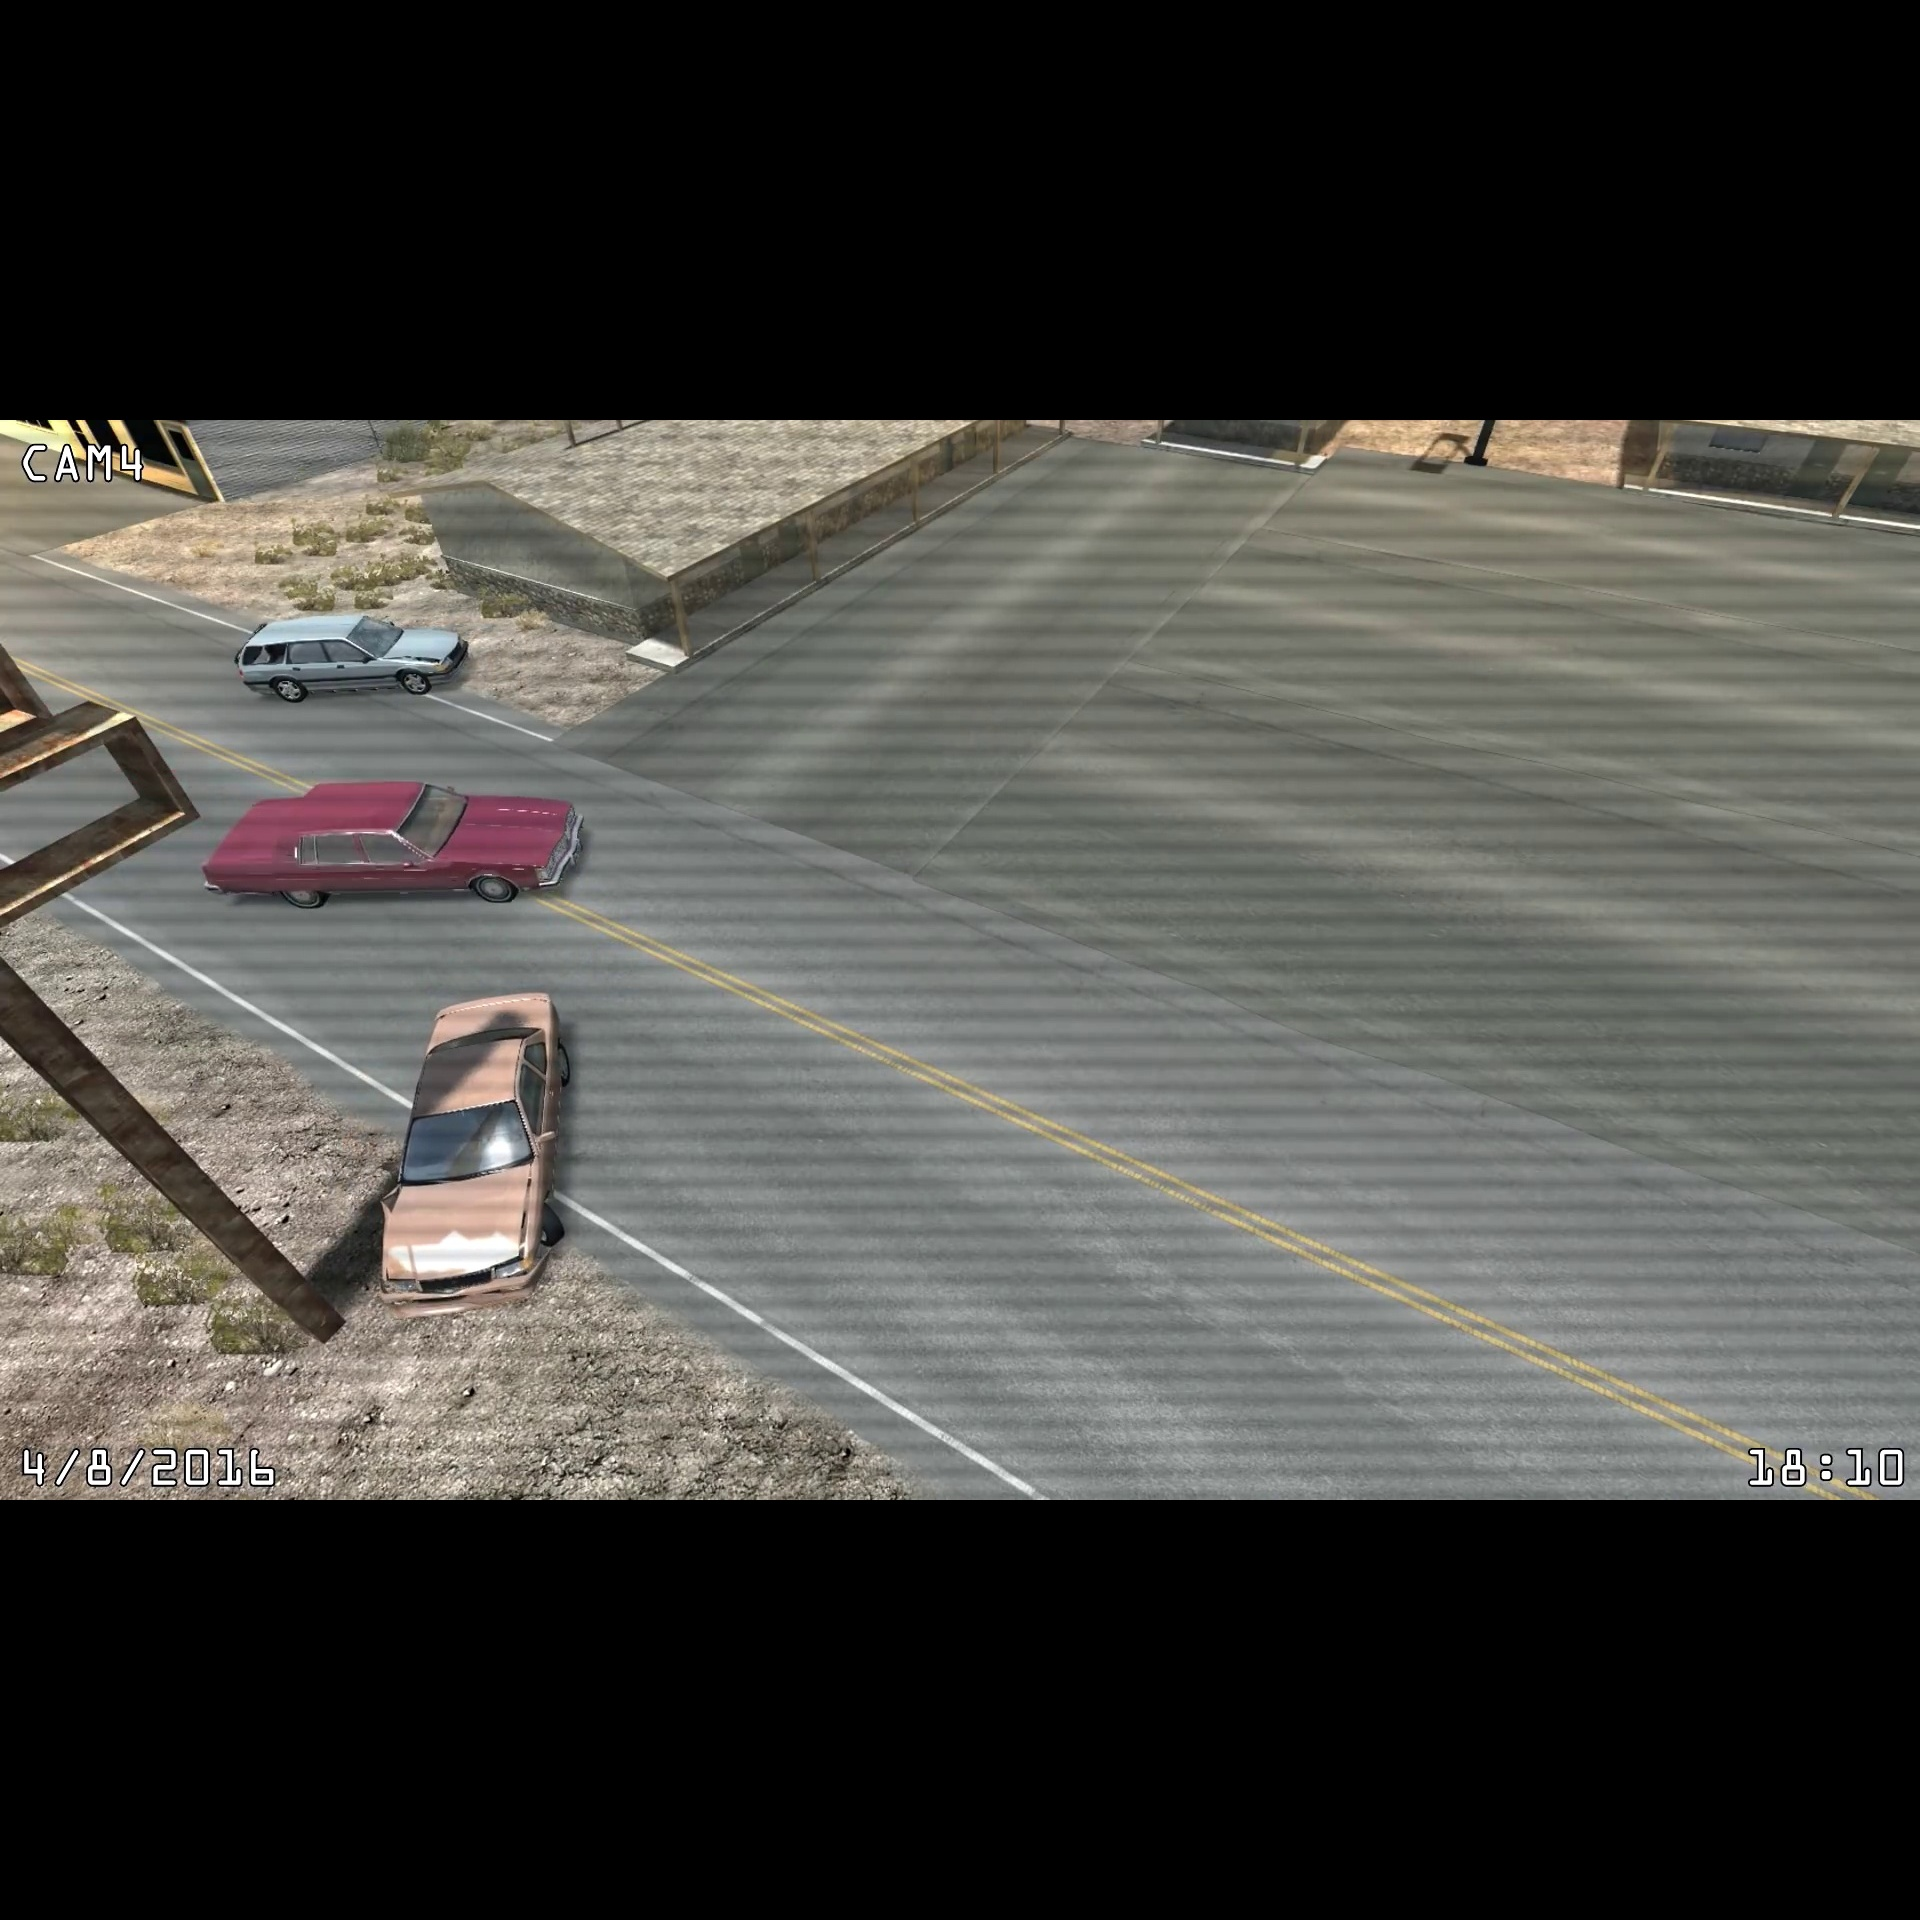vehicle: (369, 979, 582, 1329), (188, 767, 594, 923), (234, 607, 471, 707)
